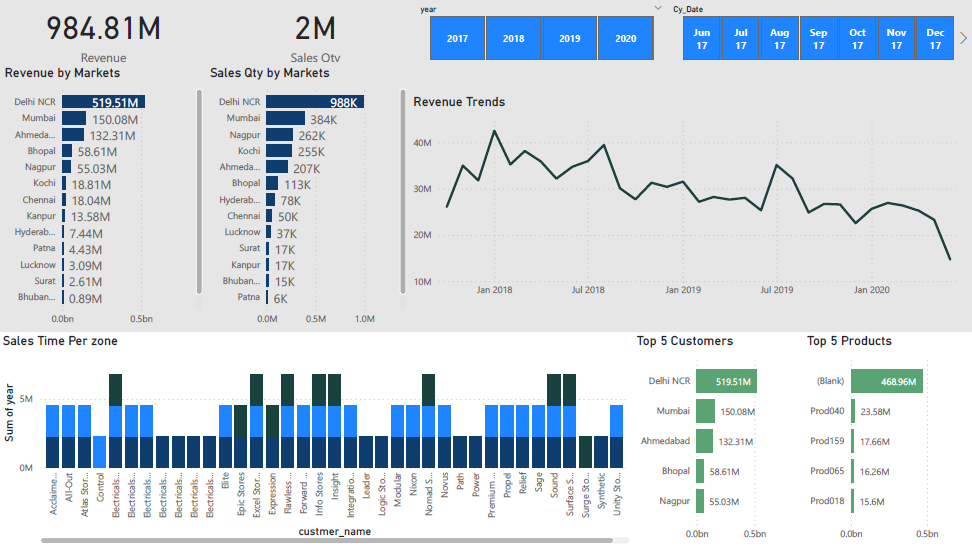

This screenshot's page, from the dashboard's own definition file:
{"tool":"powerbi","page":{"name":"Dashb","canvas":[1280,720],"ordinal":0},"visuals":[{"type":"card","fields":{"Values":["Base Measure.Revenue"]},"box":[55,0,165,85.6],"z":0},{"type":"card","fields":{"Values":["Base Measure.Sales Qty"]},"box":[364.3,0,105.1,85.6],"z":1000},{"type":"clusteredBarChart","title":"Revenue by Markets","fields":{"Category":["sales markets.markets_name"],"Y":["Base Measure.Revenue"]},"box":[2.4,85.6,270.2,352.1],"z":2000},{"type":"clusteredBarChart","title":"Sales Qty by Markets","fields":{"Category":["sales markets.markets_name"],"Y":["Base Measure.Sales Qty"]},"box":[272.6,85.6,267.7,352.1],"z":3000},{"type":"slicer","fields":{"Values":["sales date.year"]},"box":[540.7,0,343.1,85.1],"z":4000},{"type":"slicer","fields":{"Values":["sales date.cy_date"]},"box":[874.1,0,406.2,85.1],"z":5000},{"type":"clusteredBarChart","title":"Top 5 Customers","fields":{"Y":["Base Measure.Revenue"],"Category":["sales markets.markets_name"]},"box":[833.8,437.5,223.8,282.5],"z":6000},{"type":"clusteredBarChart","title":"Top 5 Products","fields":{"Y":["Base Measure.Revenue"],"Category":["sales products.product_code"]},"box":[1057.5,437.5,222.5,282.5],"z":7000},{"type":"lineChart","title":"Revenue Trends","fields":{"Y":["Base Measure.Revenue"],"Category":["sales date.cy_date"]},"box":[540.3,123.5,739.6,276.3],"z":8000},{"type":"columnChart","title":"Sales Time Per zone","fields":{"Category":["sales customers.custmer_name"],"Series":["sales markets.zone"],"Y":["Sum(sales date.year)"]},"box":[0,437.6,833.7,282.4],"z":9000}]}

Visuals, with their boxes in screenshot pixels (x1, y1, x2, y2), scaled from the page's 1280x720 canvas onto the 972x547 screenshot:
card - Base Measure.Revenue: [x1=42, y1=0, x2=167, y2=65]
card - Base Measure.Sales Qty: [x1=277, y1=0, x2=356, y2=65]
"Revenue by Markets" clusteredBarChart: [x1=2, y1=65, x2=207, y2=333]
"Sales Qty by Markets" clusteredBarChart: [x1=207, y1=65, x2=410, y2=333]
slicer - sales date.year: [x1=411, y1=0, x2=671, y2=65]
slicer - sales date.cy_date: [x1=664, y1=0, x2=971, y2=65]
"Top 5 Customers" clusteredBarChart: [x1=633, y1=332, x2=803, y2=546]
"Top 5 Products" clusteredBarChart: [x1=803, y1=332, x2=971, y2=546]
"Revenue Trends" lineChart: [x1=410, y1=94, x2=971, y2=304]
"Sales Time Per zone" columnChart: [x1=0, y1=332, x2=633, y2=546]
